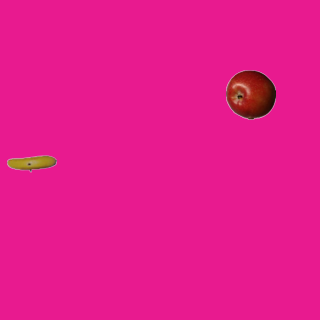Apple Braeburn: (225, 69, 275, 119)
Banana: (6, 138, 56, 188)
